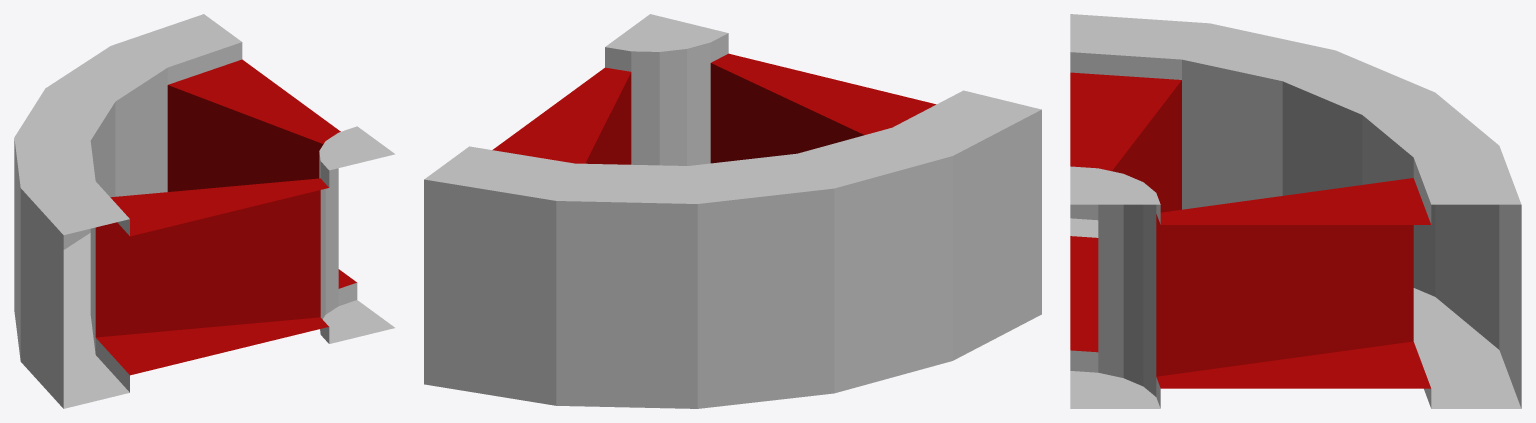
The model's file is command_center.dae.
3 renders of one model, left to right at view 1: azimuth 30°, elevation 25°; view 2: azimuth 150°, elevation 25°; view 3: azimuth 270°, elevation 25°, orthographic. The views are drawn at different scales.
Visible parts, largest first — view 1: Cylinder, Cylinder.001; view 2: Cylinder.001, Cylinder; view 3: Cylinder.001, Cylinder.
Part boxes in pixels (left/top/right/bottom): Cylinder: left=95, top=59, right=356, bottom=375; Cylinder.001: left=14, top=14, right=394, bottom=408; Cylinder.001: left=424, top=14, right=1041, bottom=408; Cylinder: left=492, top=53, right=936, bottom=164; Cylinder.001: left=1070, top=14, right=1521, bottom=408; Cylinder: left=1070, top=72, right=1430, bottom=388.
Bounding box in the file's own units: 1 × 1 × 0.5.
